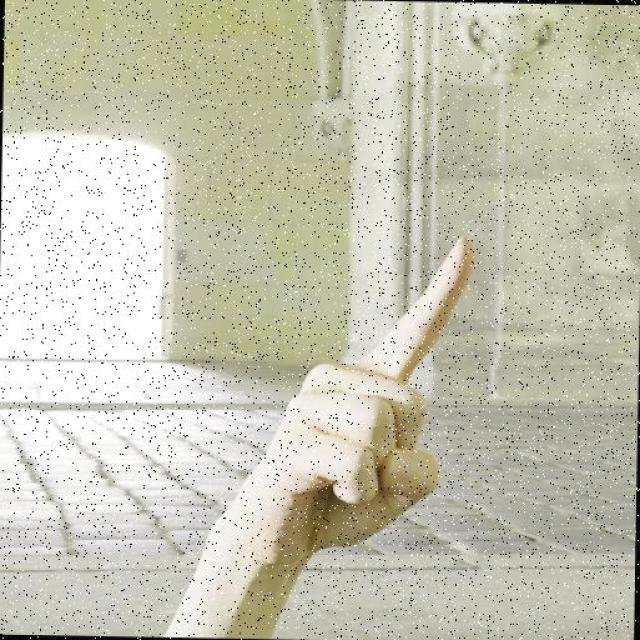Z: (200, 227, 481, 576)
